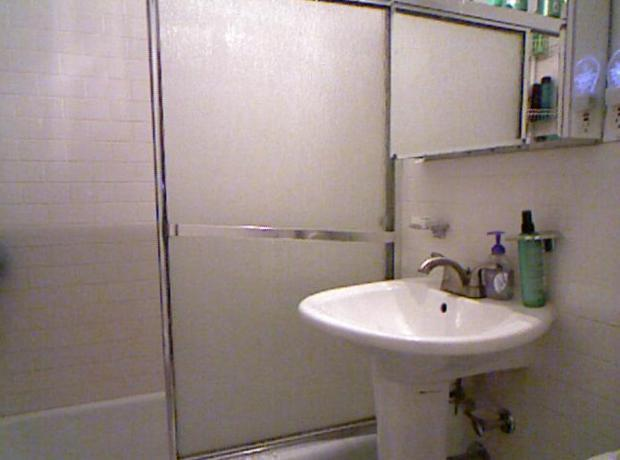Ducha: (153, 3, 403, 455)
Lavamanos: (298, 249, 551, 456)
